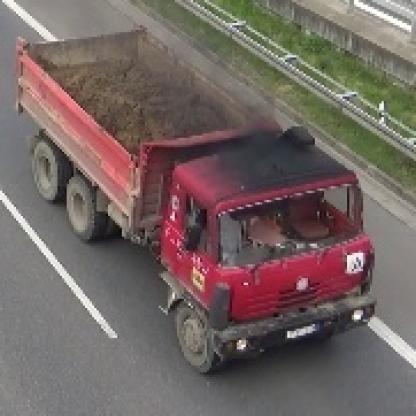truck: (13, 24, 376, 376)
